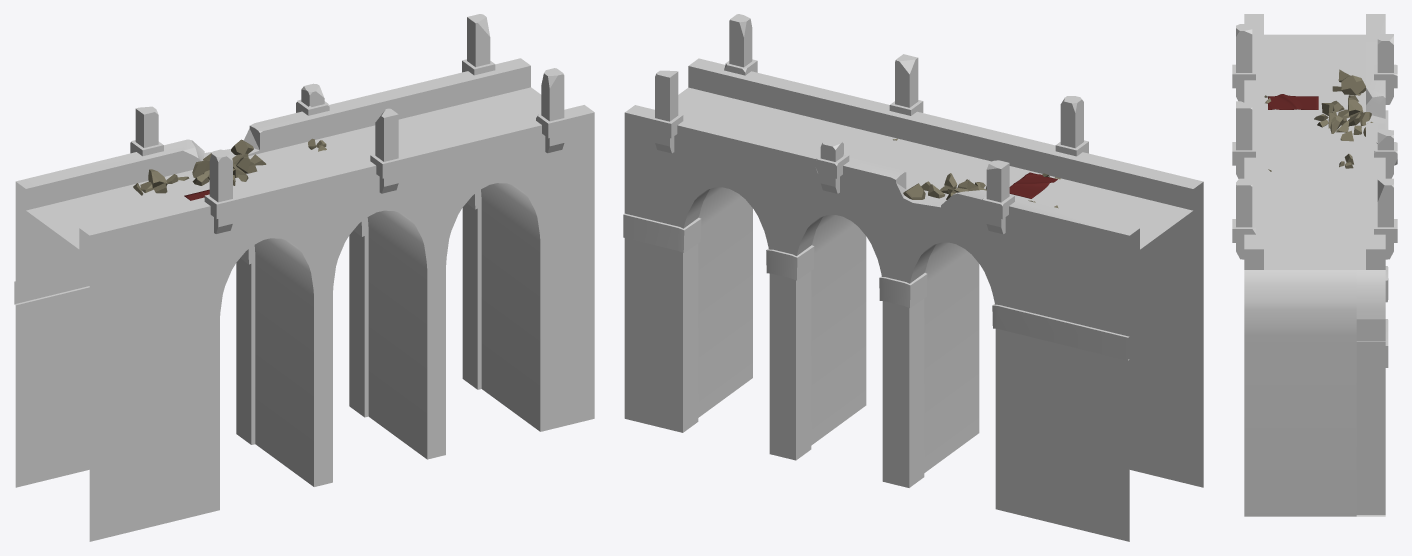
Rendered from Bridge.fbx.
3 renders of one model, left to right at view 1: azimuth 30°, elevation 25°; view 2: azimuth 150°, elevation 25°; view 3: azimuth 270°, elevation 25°, orthographic. The views are drawn at different scales.
Visible parts, largest first — view 1: Bridge, Rock.014; view 2: Bridge, Rock.014, Carpet; view 3: Bridge, Rock.014, Carpet.
Part boxes in pixels (x1,y1,x2,y2): Bridge: (14, 14, 594, 541); Rock.014: (133, 138, 326, 195); Bridge: (623, 14, 1203, 541); Rock.014: (893, 138, 1060, 208); Carpet: (1009, 172, 1057, 198); Bridge: (1232, 14, 1397, 516); Rock.014: (1264, 69, 1372, 171); Carpet: (1267, 94, 1318, 109).
Bounding box in the file's own units: 14.72 × 9.93 × 4.36.
